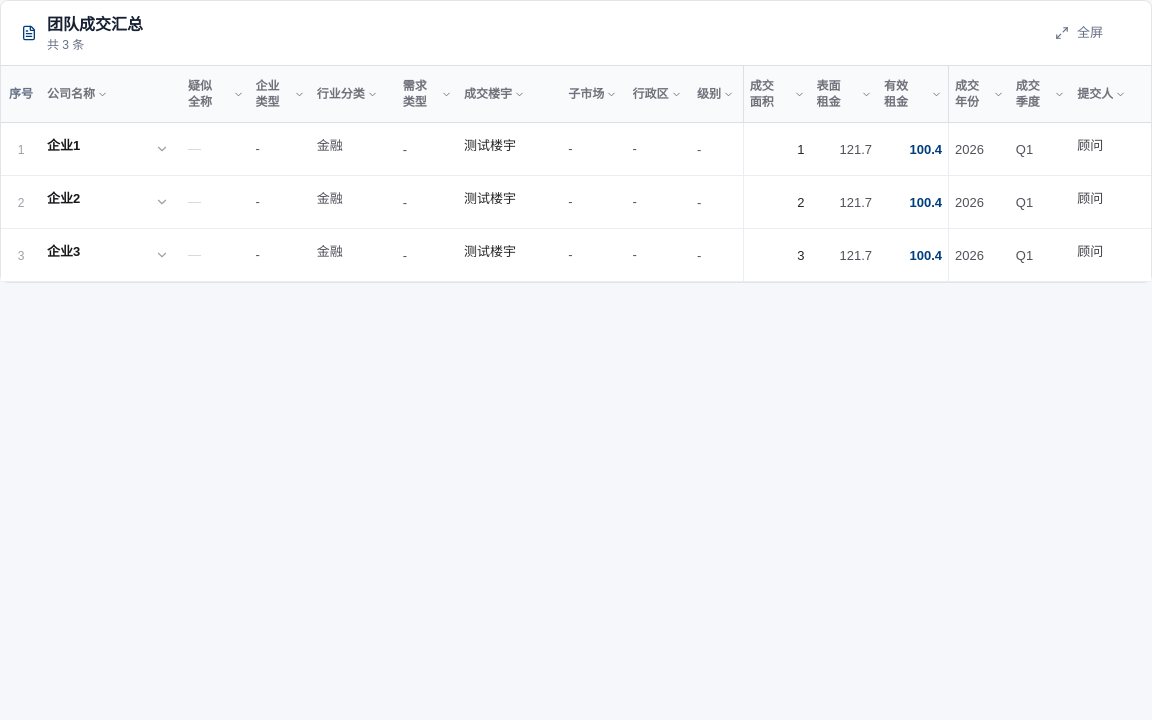
成交汇总交互 › retains header filter state and validates inverted numeric ranges
Click the button with aria-label "成交面积筛选和排序": (777, 94) [750, 76, 805, 112]
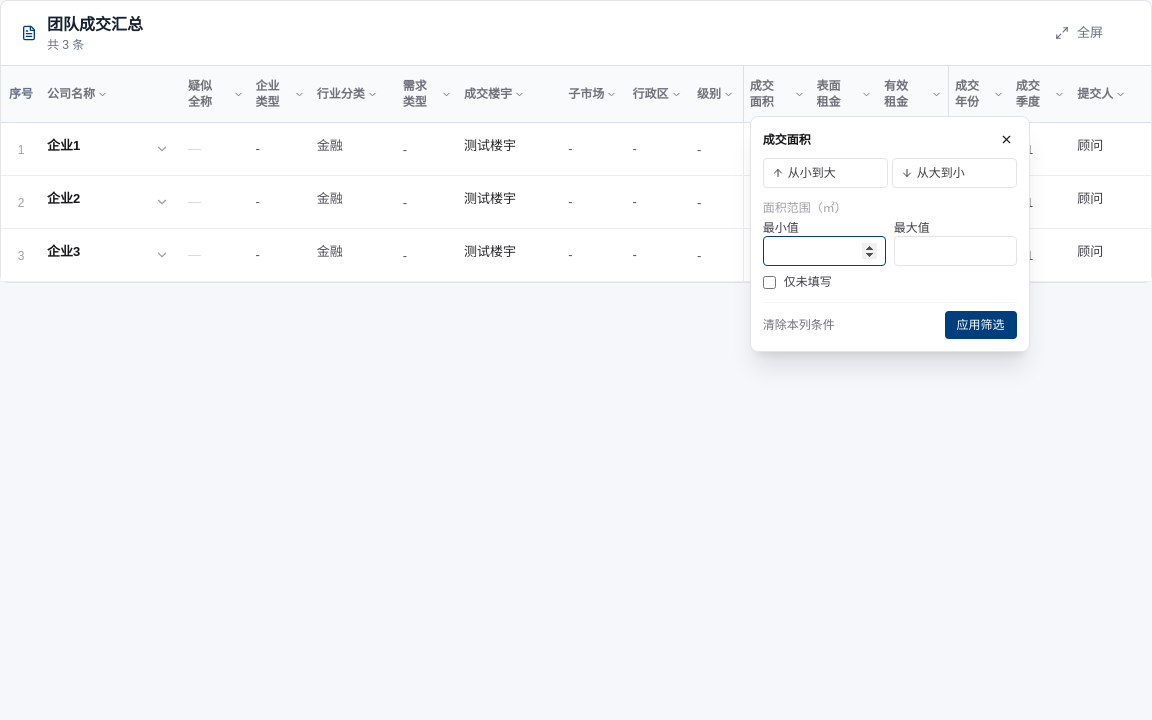
In the number field named "成交面积最小值": (824, 251) [763, 236, 886, 266], type "3"
In the number field named "成交面积最大值": (955, 251) [894, 236, 1017, 266], type "1"
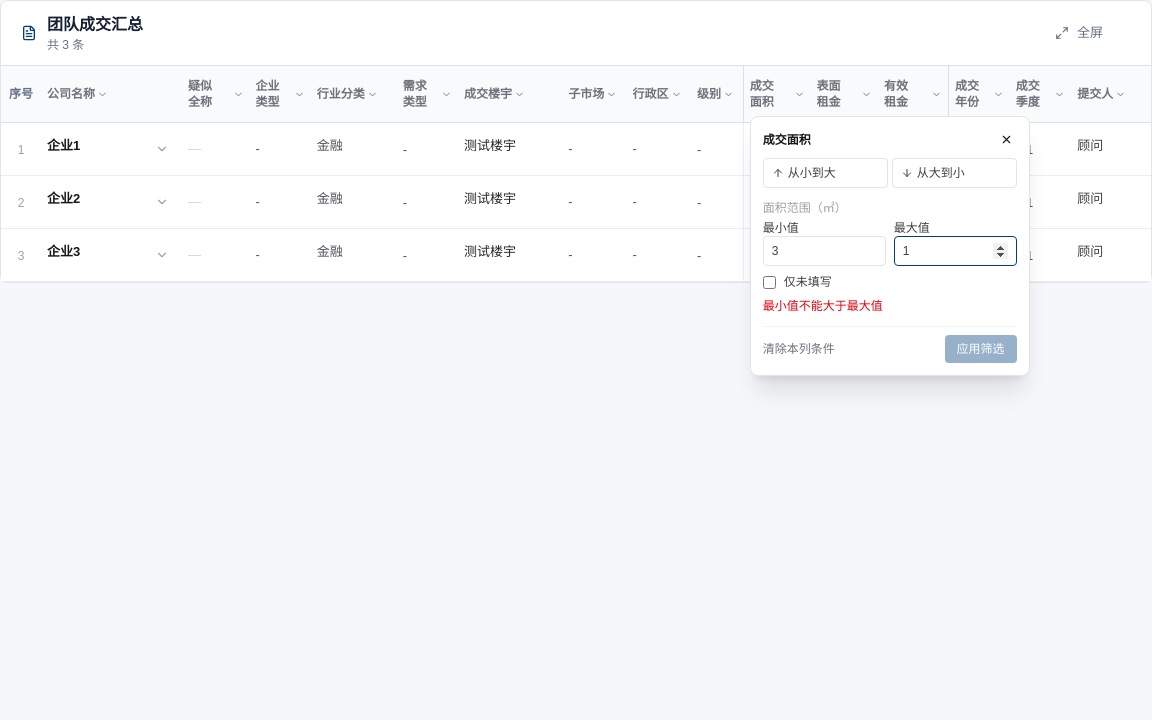
Expected: the message reads "最小值不能大于最大值", [763, 299, 883, 313]
Expected: the button "应用筛选" is disabled, [945, 335, 1017, 363]
Replace the text in the number field named "成交面积最大值" with "3": (955, 251) [894, 236, 1017, 266]
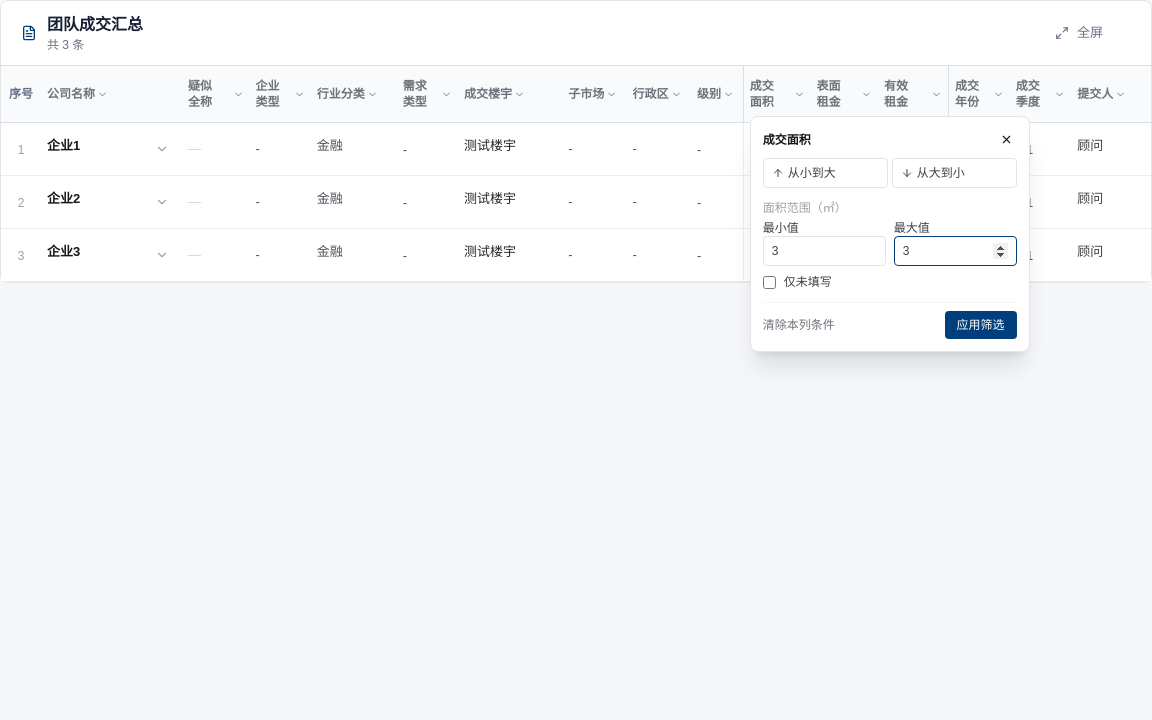
Click the button "应用筛选": (981, 325) [945, 311, 1017, 339]
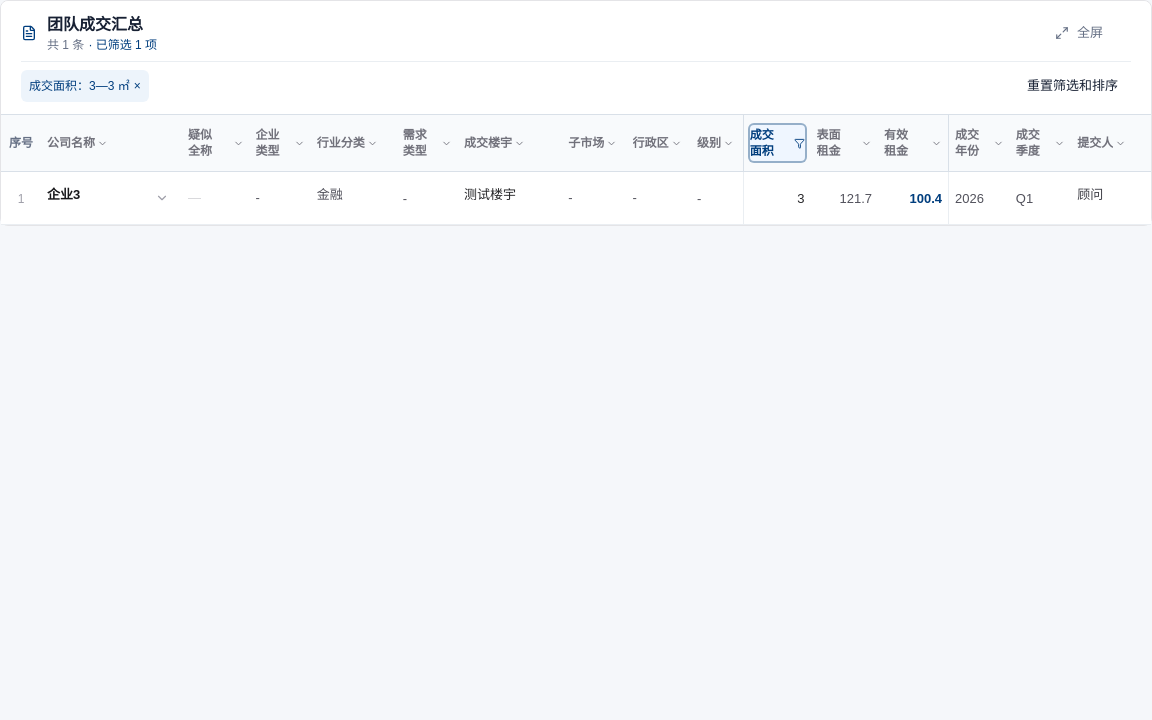
Expected: the text "企业3" is shown, [47, 185, 80, 205]
Expected: the text "企业1" is gone
Click the button with aria-label "成交面积筛选和排序": (777, 143) [750, 125, 805, 161]
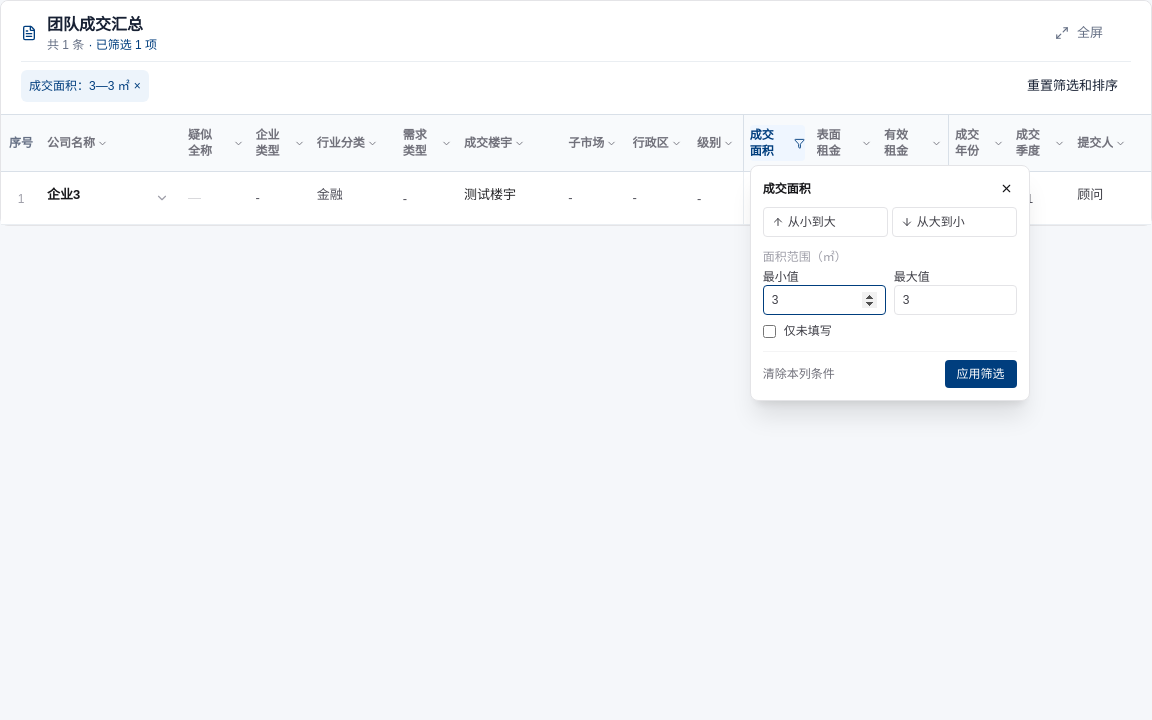
Expected: the number field named "成交面积最小值" holds "3", [763, 285, 886, 315]
Click the button "清除本列条件": (799, 374) [763, 366, 835, 382]
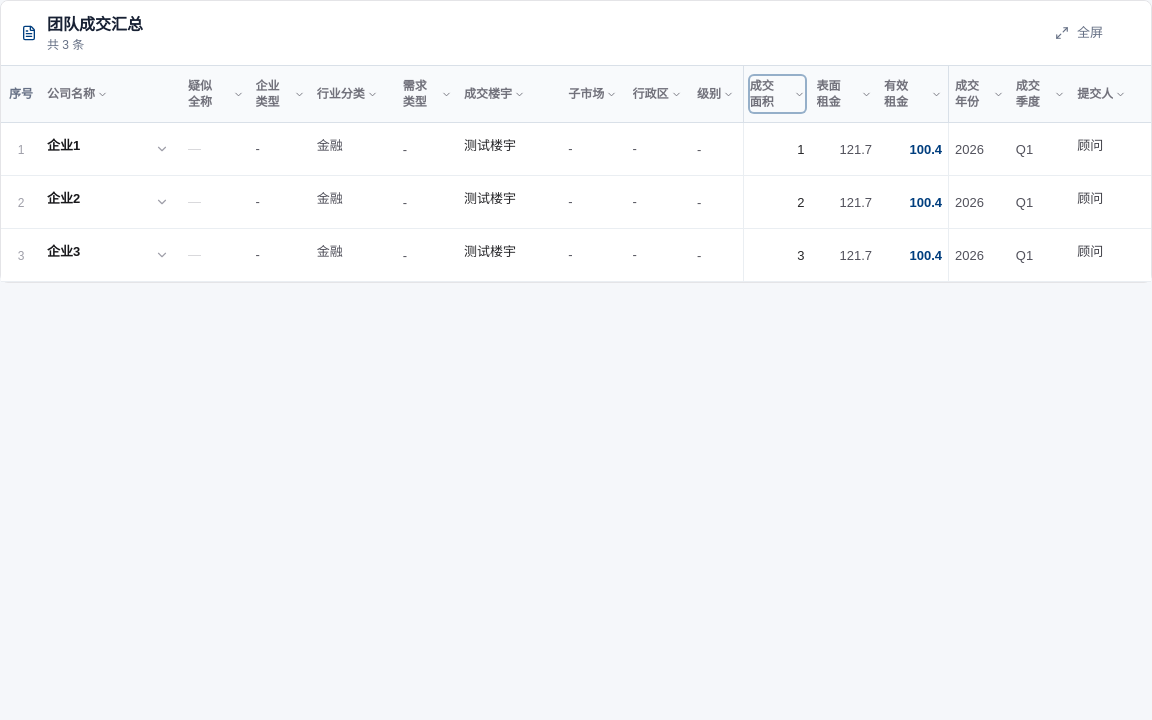
Expected: the text "企业1" is shown, [47, 136, 80, 156]
